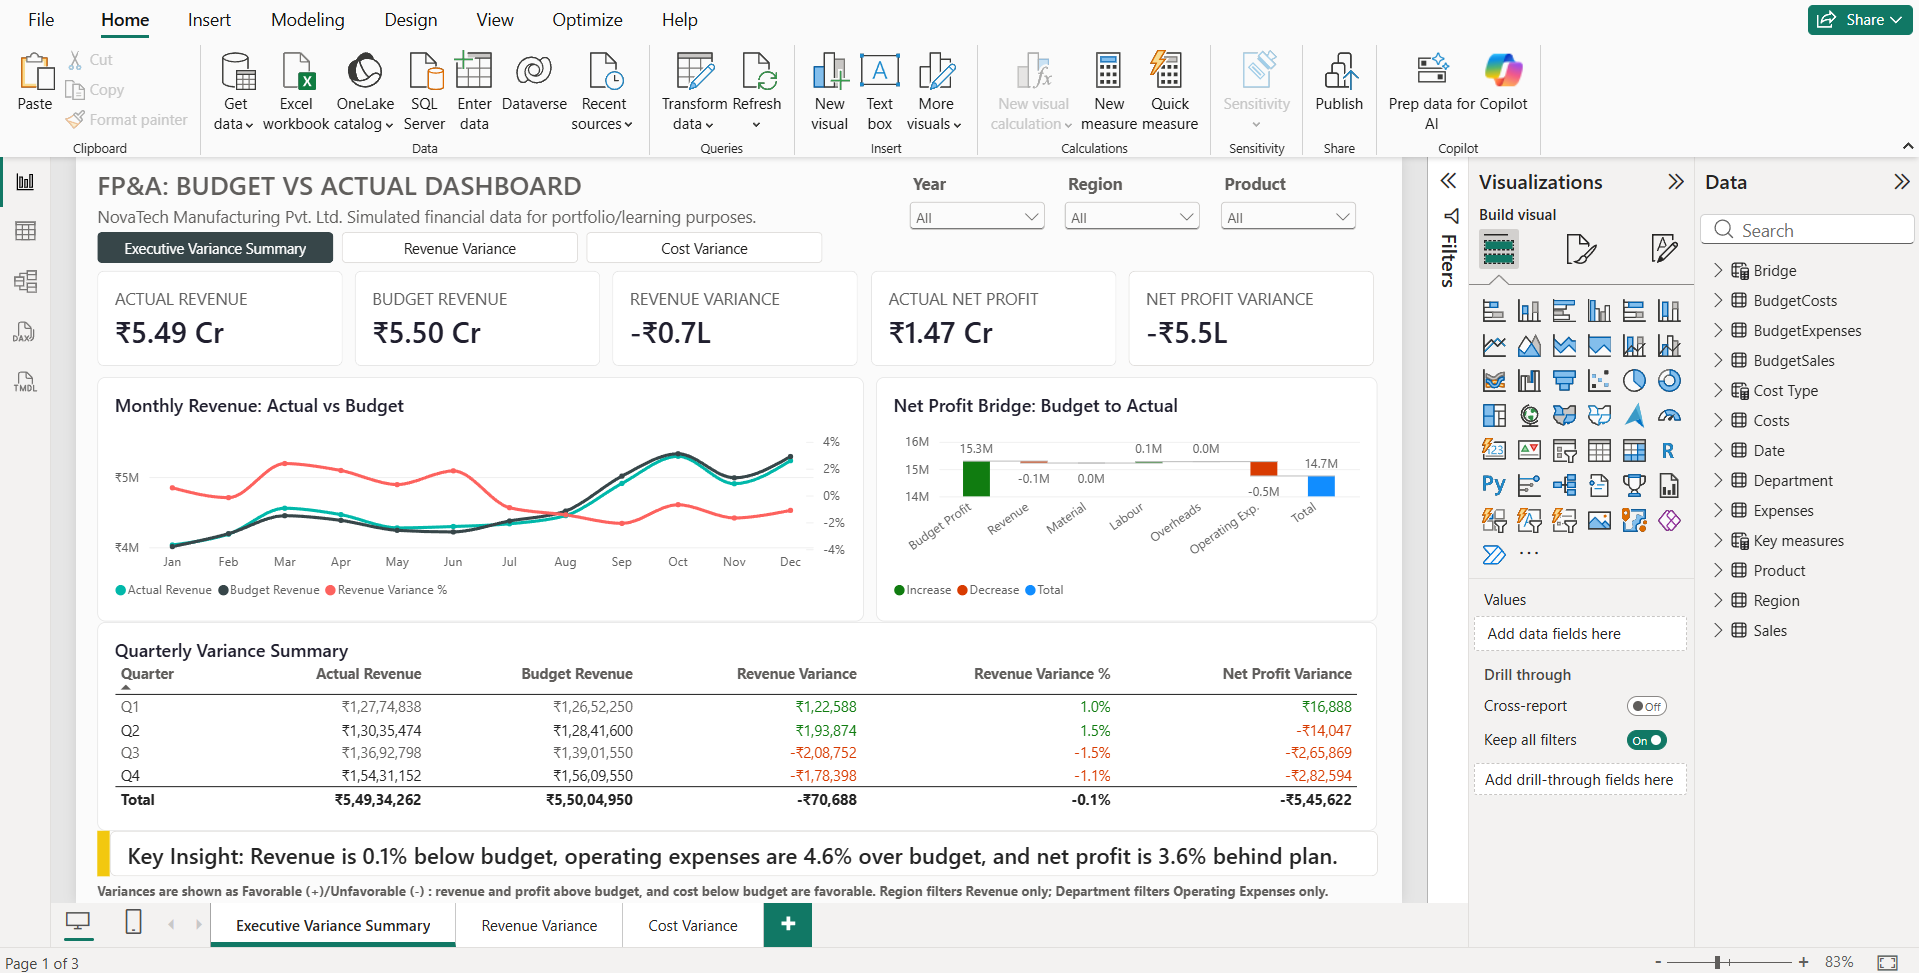

The dashboard page shown, as its layout file describes it:
{"tool":"powerbi","page":{"name":"Executive Variance Summary ","canvas":[1280,720],"ordinal":0},"visuals":[{"type":"textbox","title":"FP&A: BUDGET VS ACTUAL DASHBOARD","box":[20,10,760,60],"z":0},{"type":"slicer","fields":{"Values":["Date.Year"]},"box":[800,14,140,58],"z":1},{"type":"slicer","fields":{"Values":["Sales.Region"]},"box":[950,14,140,58],"z":2},{"type":"slicer","fields":{"Values":["Product.Product Name"]},"box":[1100,14,140,58],"z":3},{"type":"pageNavigator","box":[20,72,700,30],"z":4},{"type":"textbox","title":"Variances are shown as Favorable (+)/Unfavorable (-) : revenue and profit above budget, and cost below budget are favorable. Region filters Revenue only; Department filters Operating Expenses only.","box":[20,700,1236,18],"z":5},{"type":"cardVisual","fields":{"Data":["Key measures.Actual Revenue Label"]},"box":[20,110,237,92],"z":7},{"type":"cardVisual","fields":{"Data":["Key measures.Budget Revenue Label"]},"box":[269,110,237,92],"z":8},{"type":"cardVisual","fields":{"Data":["Key measures.Revenue Variance Label"]},"box":[518,110,237,92],"z":9},{"type":"cardVisual","fields":{"Data":["Key measures.Actual Net Profit Label"]},"box":[767,110,237,92],"z":10},{"type":"cardVisual","fields":{"Data":["Key measures.Net Profit Variance Label"]},"box":[1016,110,237,92],"z":11},{"type":"lineChart","title":"Monthly Revenue: Actual vs Budget","fields":{"Category":["Date.Month"],"Y":["Key measures.Actual Revenue","Key measures.Budget Revenue"],"Y2":["Key measures.Revenue Variance %"]},"box":[20,212,740,236],"z":12},{"type":"waterfallChart","title":"Net Profit Bridge: Budget to Actual","fields":{"Category":["Bridge.Step"],"Y":["Key measures.Bridge Value"]},"box":[772,212,484,236],"z":13},{"type":"tableEx","title":"Quarterly Variance Summary","fields":{"Values":["Date.Quarter","Key measures.Actual Revenue","Key measures.Budget Revenue","Key measures.Revenue Variance","Key measures.Revenue Variance %","Key measures.Net Profit Variance"]},"box":[20.5,448.8,1235.4,201.5],"z":14},{"type":"cardVisual","fields":{"Data":["Key measures.Insight Text"]},"box":[32,650.3,1224,44],"z":15},{"type":"shape","box":[20.5,650,12,44],"z":16}]}

Visuals, with their boxes on the page's 1280x720 design canvas (x1, y1, x2, y2). These are canvas units, not pixel positions in the 1919x973 screenshot, which may show the page scaled, cropped or inside an application window:
"FP&A: BUDGET VS ACTUAL DASHBOARD" textbox: region(20, 10, 780, 70)
slicer - Date.Year: region(800, 14, 940, 72)
slicer - Sales.Region: region(950, 14, 1090, 72)
slicer - Product.Product Name: region(1100, 14, 1240, 72)
pageNavigator: region(20, 72, 720, 102)
"Variances are shown as Favorable (+)/Unfavorable (-) : revenue and profit above budget, and cost below budget are favorable. Region filters Revenue only; Department filters Operating Expenses only." textbox: region(20, 700, 1256, 718)
cardVisual - Key measures.Actual Revenue Label: region(20, 110, 257, 202)
cardVisual - Key measures.Budget Revenue Label: region(269, 110, 506, 202)
cardVisual - Key measures.Revenue Variance Label: region(518, 110, 755, 202)
cardVisual - Key measures.Actual Net Profit Label: region(767, 110, 1004, 202)
cardVisual - Key measures.Net Profit Variance Label: region(1016, 110, 1253, 202)
"Monthly Revenue: Actual vs Budget" lineChart: region(20, 212, 760, 448)
"Net Profit Bridge: Budget to Actual" waterfallChart: region(772, 212, 1256, 448)
"Quarterly Variance Summary" tableEx: region(20, 449, 1256, 650)
cardVisual - Key measures.Insight Text: region(32, 650, 1256, 694)
shape: region(20, 650, 32, 694)
